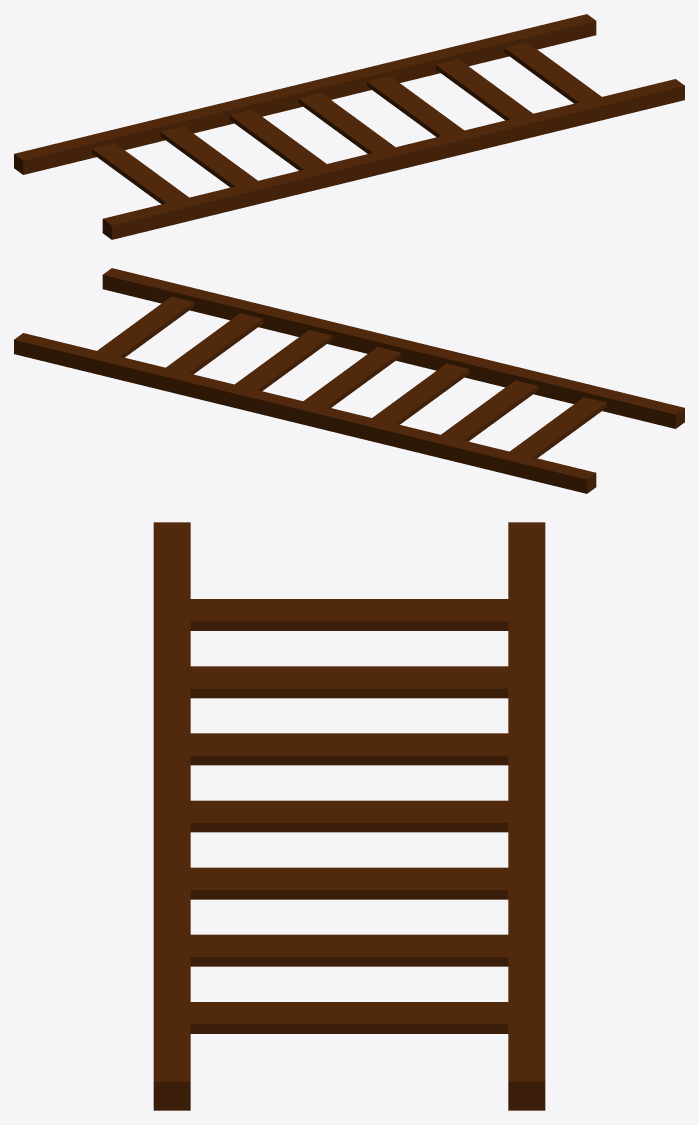
File: stairs.obj
3 renders of one model, top to bottom at view 1: azimuth 30°, elevation 25°; view 2: azimuth 150°, elevation 25°; view 3: azimuth 270°, elevation 25°, orthographic. The views are drawn at different scales.
Parts seen in each view (by area): view 1: obj1; view 2: obj1; view 3: obj1.
Part boxes in pixels (x1=…): obj1: x1=14, y1=14, x2=684, y2=239; obj1: x1=14, y1=268, x2=684, y2=493; obj1: x1=153, y1=522, x2=545, y2=1110.
Size of the model in its own units: 0.375 by 0.009 by 0.111.
